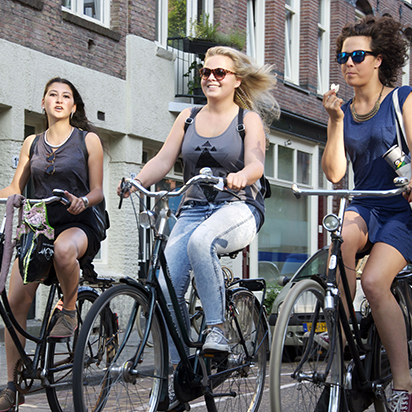commuter: (68, 45, 275, 412), (270, 15, 412, 412), (1, 76, 124, 412)
